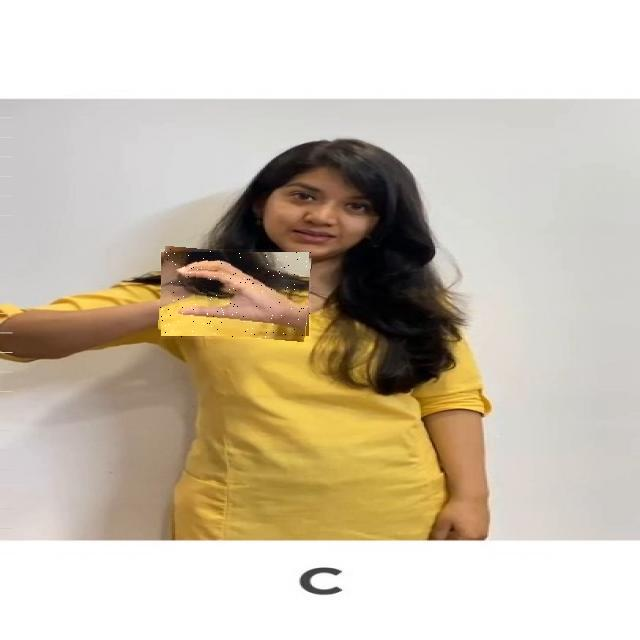C: (160, 249, 311, 339)
